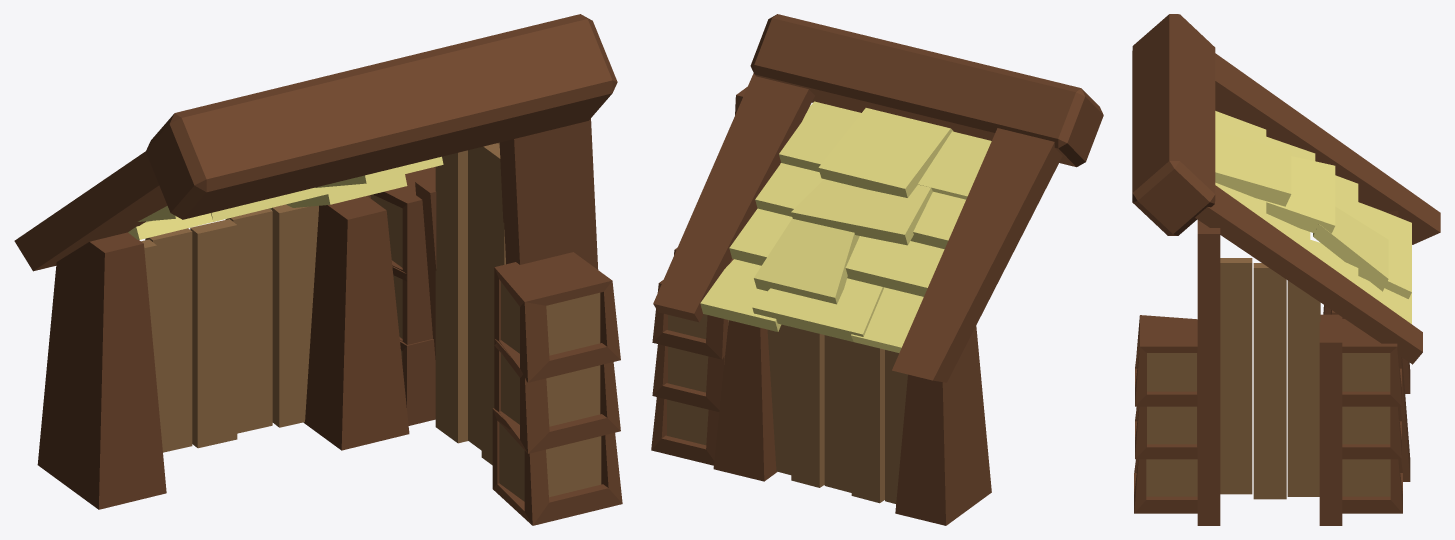
The model's file is house.glb.
3 renders of one model, left to right at view 1: azimuth 30°, elevation 25°; view 2: azimuth 150°, elevation 25°; view 3: azimuth 270°, elevation 25°, orthographic. The views are drawn at different scales.
Visible parts, largest first — view 1: Cube; view 2: Cube; view 3: Cube.
Part boxes in pixels (<box>): Cube: <box>14,14,622,525</box>; Cube: <box>651,14,1103,525</box>; Cube: <box>1132,14,1440,525</box>.
Bounding box in the file's own units: 11.78 × 11.75 × 9.35.
